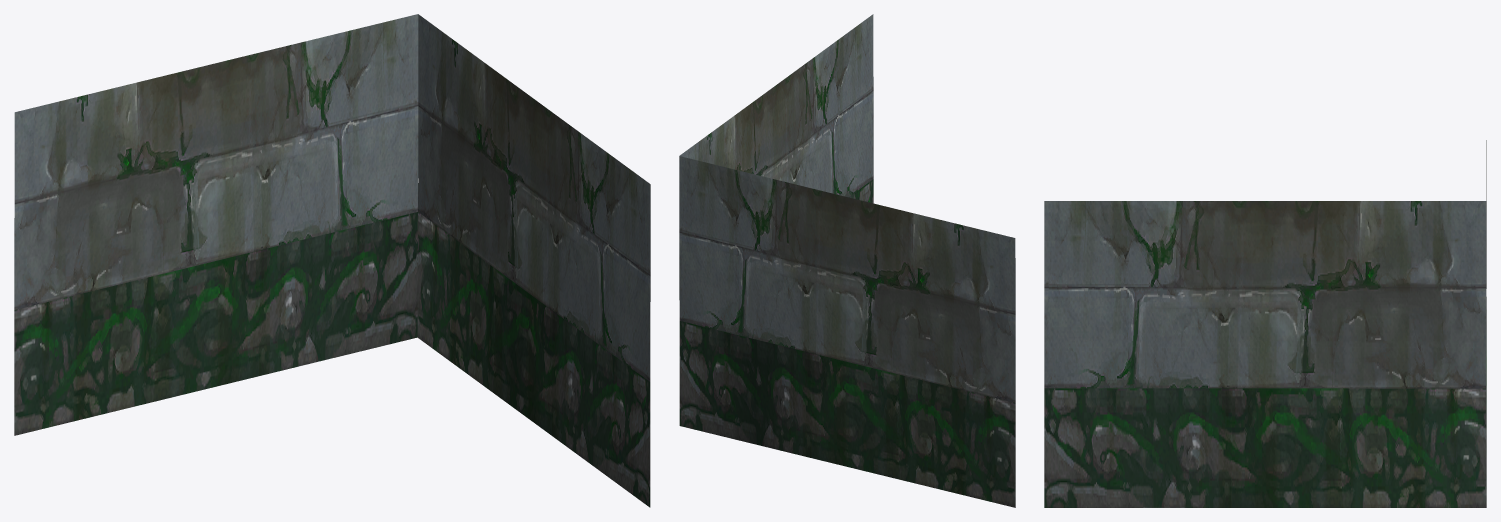
Rendered from stemple_half_concave_04.fbx.
3 renders of one model, left to right at view 1: azimuth 30°, elevation 25°; view 2: azimuth 150°, elevation 25°; view 3: azimuth 270°, elevation 25°, orthographic. The views are drawn at different scales.
Visible parts, largest first — view 1: stemple_half_concave_04-0; view 2: stemple_half_concave_04-0; view 3: stemple_half_concave_04-0.
Part boxes in pixels (x1,y1,x2,y2): stemple_half_concave_04-0: (14,14,650,507); stemple_half_concave_04-0: (679,14,1015,507); stemple_half_concave_04-0: (1044,140,1486,507).
Bounding box in the file's own units: 3.59 × 2.75 × 3.59.
